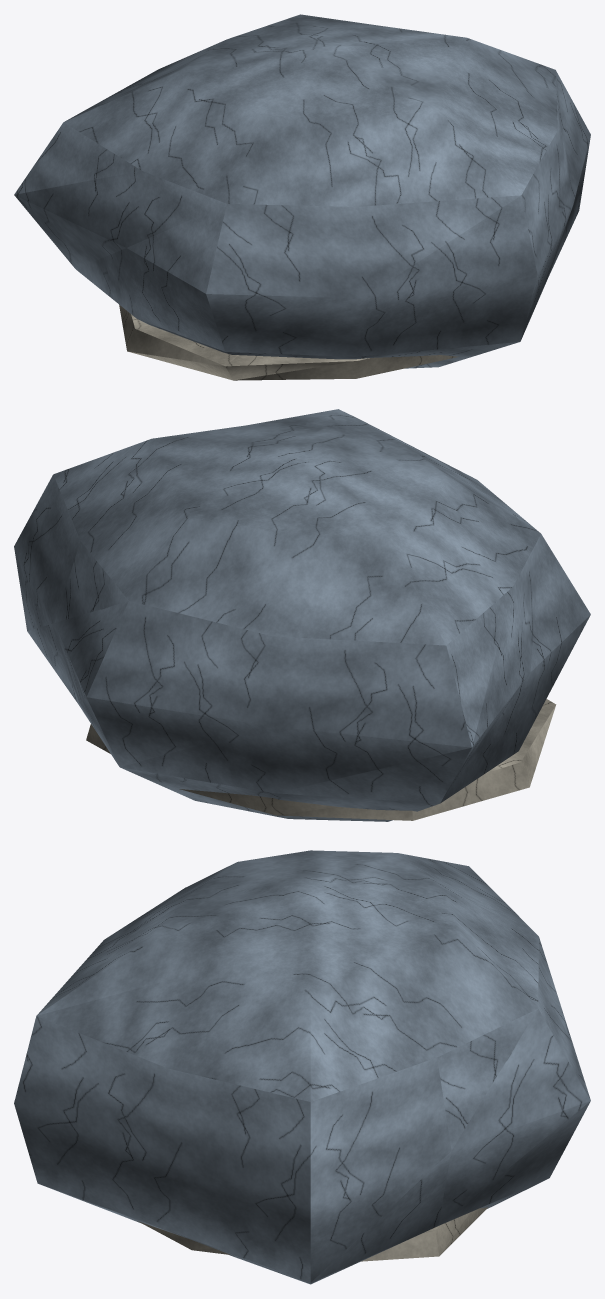
File: boulder.glb
The picture shows the model from 3 angles, top to bottom: view 1: azimuth 30°, elevation 25°; view 2: azimuth 150°, elevation 25°; view 3: azimuth 270°, elevation 25°; orthographic projection. The views are drawn at different scales.
Visible parts, largest first — view 1: DL008_Boulder_stone_blue, DL008_Boulder_sediment; view 2: DL008_Boulder_stone_blue, DL008_Boulder_sediment; view 3: DL008_Boulder_stone_blue, DL008_Boulder_sediment.
Part boxes in pixels (x1,y1,x2,y2): DL008_Boulder_stone_blue: [14, 14, 590, 368]; DL008_Boulder_sediment: [119, 304, 458, 380]; DL008_Boulder_stone_blue: [14, 409, 590, 821]; DL008_Boulder_sediment: [86, 699, 556, 820]; DL008_Boulder_stone_blue: [14, 850, 590, 1284]; DL008_Boulder_sediment: [138, 1207, 487, 1261].
Bounding box in the file's own units: 3 × 1.7 × 2.65.
Materials: 2 (2 with a texture image).
